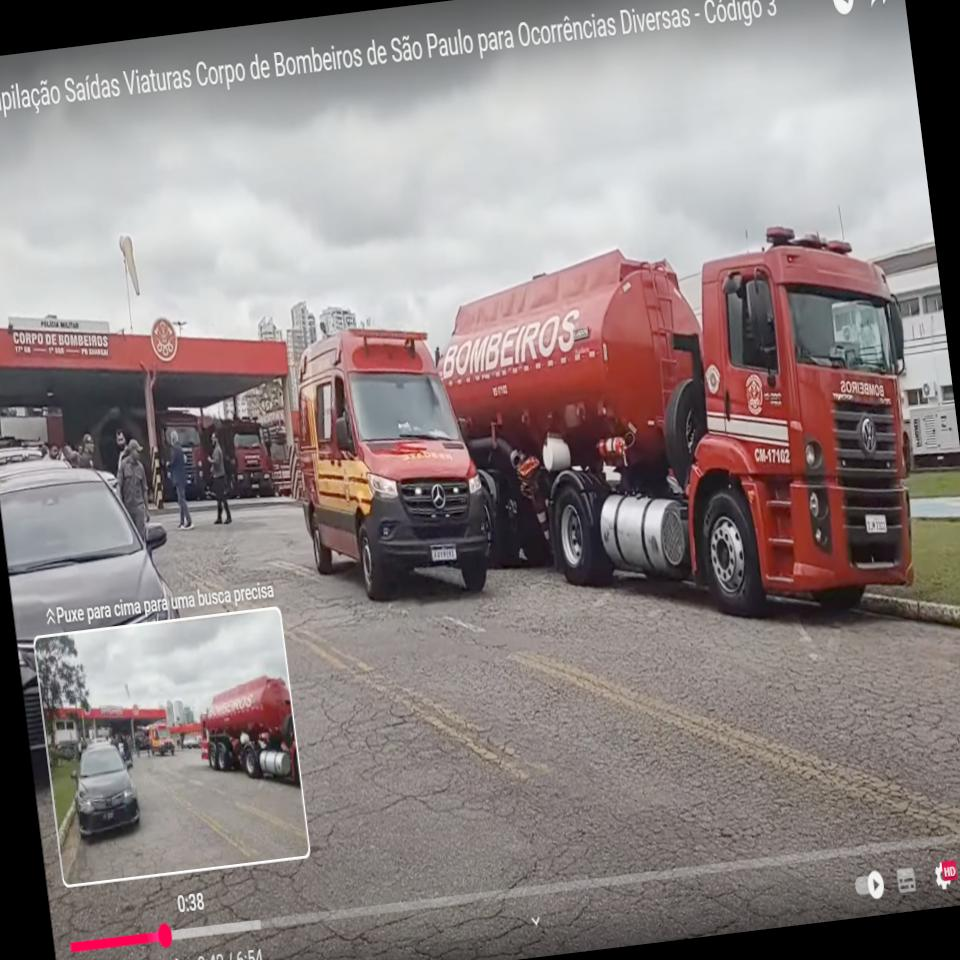viatura: (424, 210, 936, 644), (280, 313, 494, 612)
